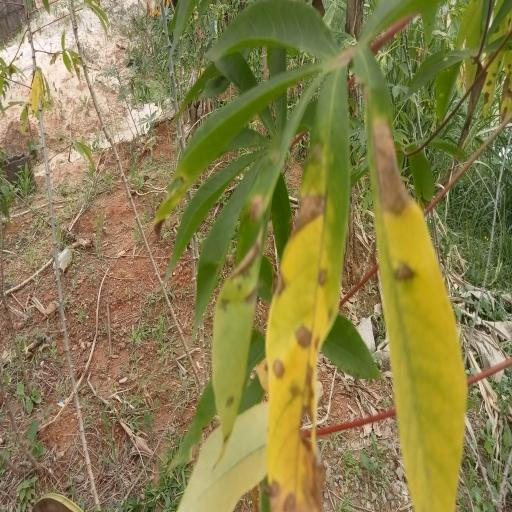Cassava_Root_Rot: (155, 0, 474, 512)
